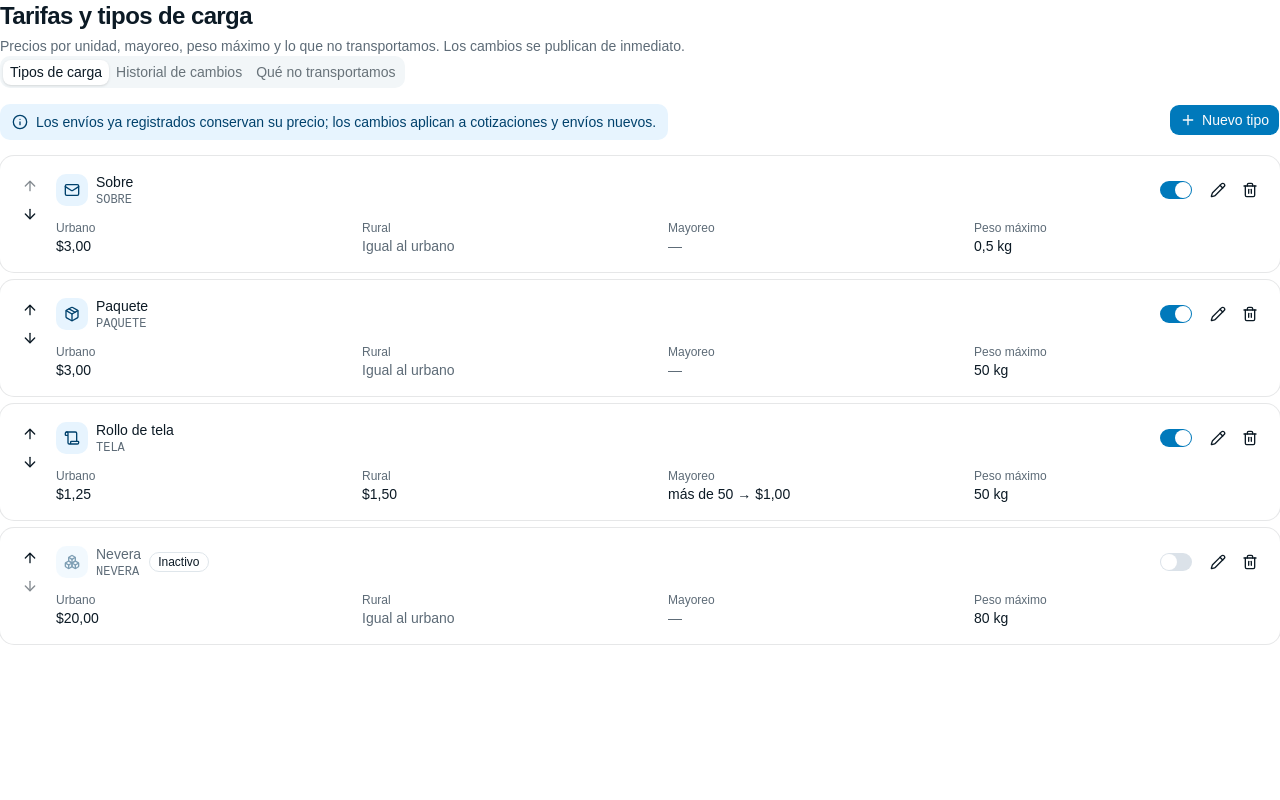
CatalogoPage — tipos de carga › eliminar un tipo con envíos (409) explica que hay que desactivarlo
What coordinates should you click on to do the following:
click the button named "Eliminar Sobre"
I would click on:
 (1250, 190)
Its box is [1236,176,1264,204].
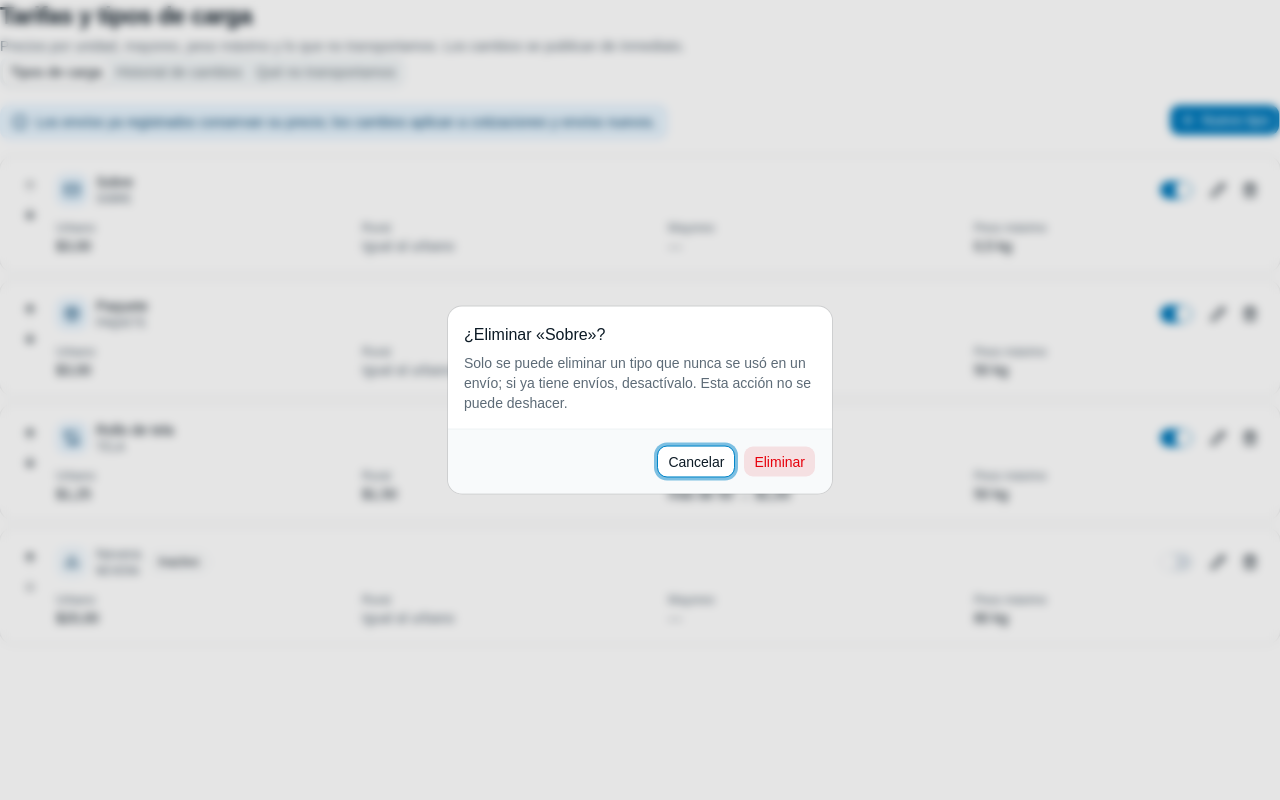
What coordinates should you click on to do the following:
click the button "Eliminar"
I would click on:
 (780, 462)
Its box is [743,446,816,478].
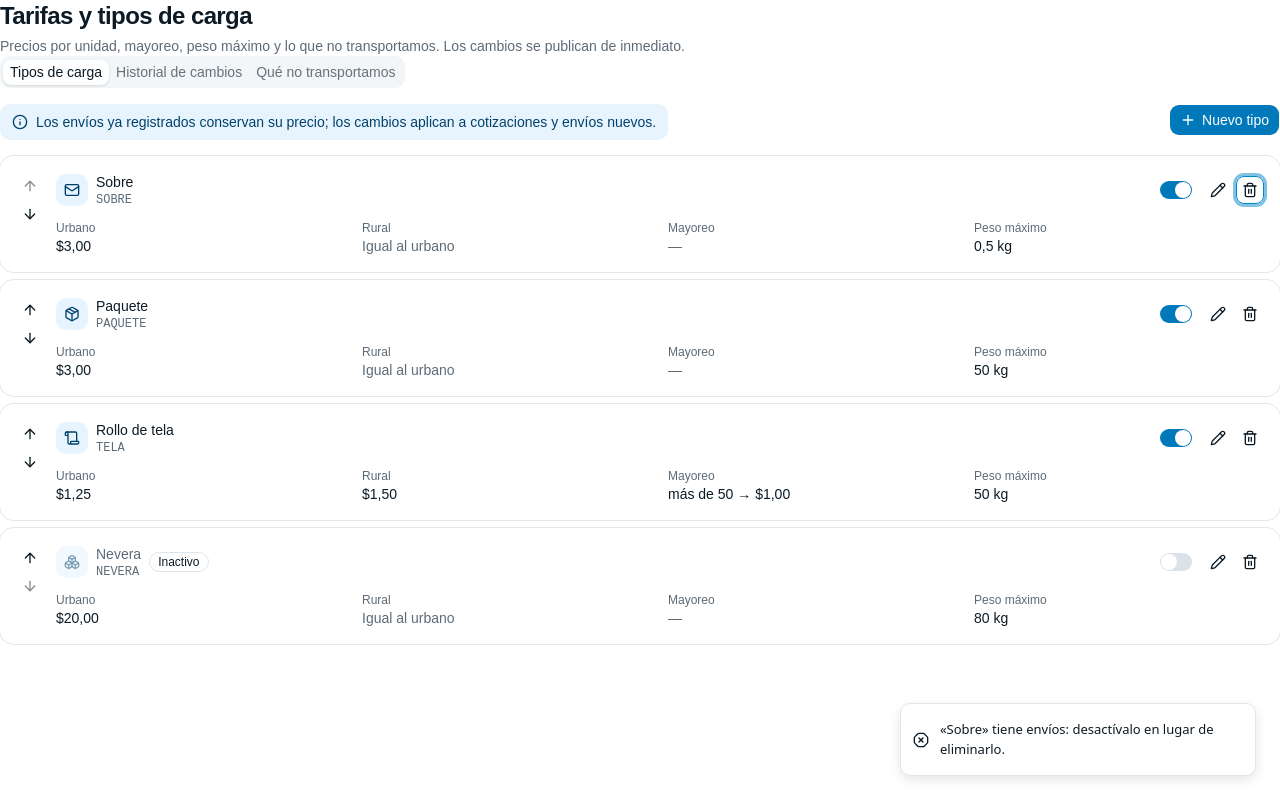
Expected: the list item "Sobre" is shown, [0,156,1279,272]
Now the text "«Sobre» tiene envíos: desactívalo en lugar de eliminarlo." is shown, box [940,720,1239,759]
